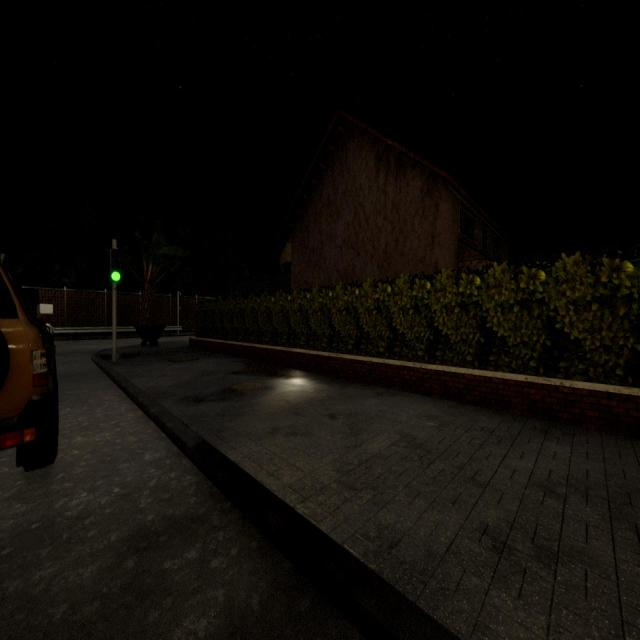Vehicle: (0, 264, 58, 470)
traffic_light: (110, 247, 122, 285)
